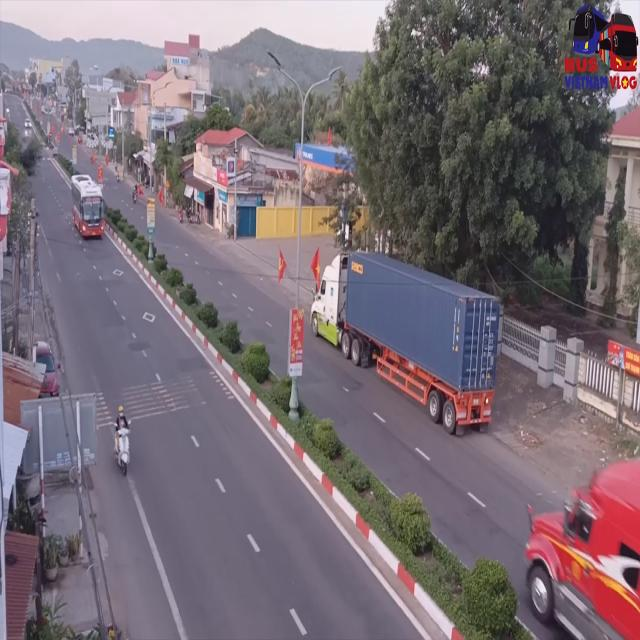bus: (521, 454, 640, 640), (70, 175, 104, 242)
motorbike: (116, 405, 134, 477)
truck: (313, 251, 503, 439)
